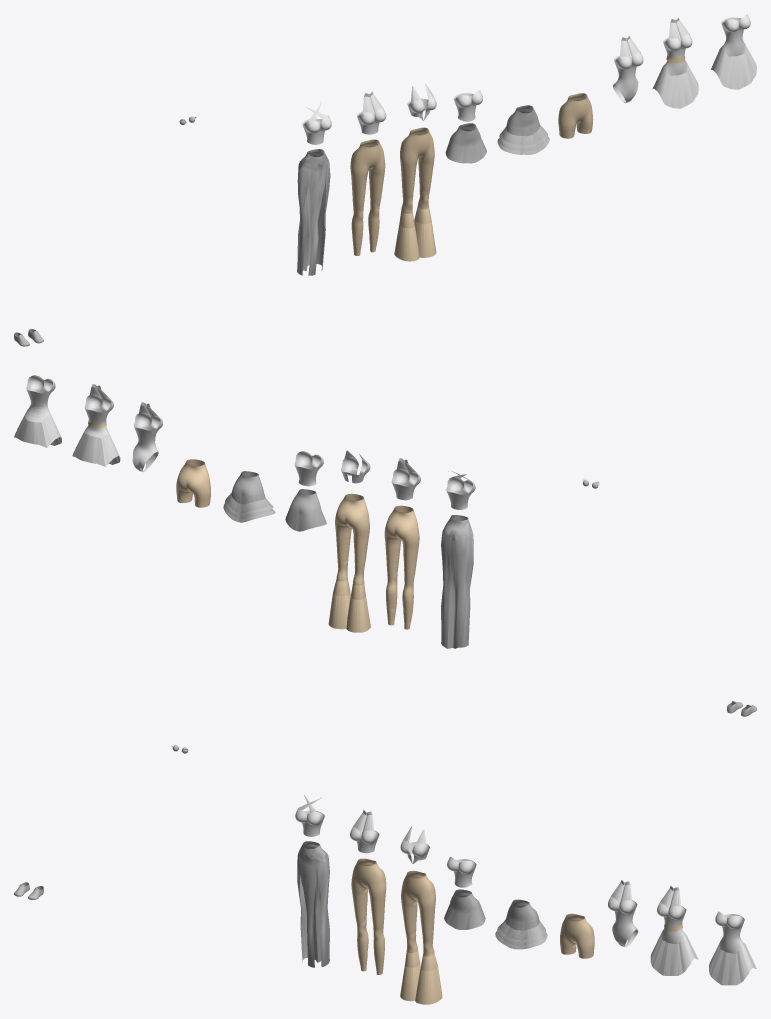
Rendered from Clothes.fbx.
3 renders of one model, top to bottom at view 1: azimuth 30°, elevation 25°; view 2: azimuth 150°, elevation 25°; view 3: azimuth 330°, elevation 25°, orthographic.
Visible parts, largest first — view 1: Female.011, Female.008, Female.010, Female.014, Female.007, Female.003, Female.013, Female.009, Female.006, Female.012, Female.004, Female.001 (+1 smaller); view 2: Female.011, Female.008, Female.010, Female.014, Female.007, Female.003, Female.013, Female.009, Female.006, Female.012, Female.004, Female.001 (+1 smaller); view 3: Female.011, Female.008, Female.010, Female.014, Female.007, Female.003, Female.013, Female.009, Female.006, Female.012, Female.004, Female.001 (+1 smaller).
Boxes of the visible parts, <box> form: Female.011: <box>394,127,436,261</box>; Female.008: <box>297,149,330,275</box>; Female.010: <box>350,139,385,255</box>; Female.014: <box>652,17,698,108</box>; Female.007: <box>711,14,756,89</box>; Female.003: <box>497,105,549,154</box>; Female.013: <box>613,36,643,102</box>; Female.009: <box>558,93,593,138</box>; Female.006: <box>445,123,486,163</box>; Female.012: <box>357,91,386,134</box>; Female.004: <box>302,101,331,144</box>; Female.001: <box>453,90,482,121</box>; Female.011: <box>328,493,370,632</box>; Female.008: <box>441,515,473,648</box>; Female.010: <box>384,505,419,629</box>; Female.014: <box>72,384,120,466</box>; Female.007: <box>14,375,61,447</box>; Female.003: <box>223,471,275,522</box>; Female.013: <box>132,402,162,472</box>; Female.009: <box>176,459,210,507</box>; Female.006: <box>285,489,326,531</box>; Female.012: <box>391,458,420,500</box>; Female.004: <box>446,470,475,509</box>; Female.001: <box>294,451,323,486</box>; Female.011: <box>400,870,442,1004</box>; Female.008: <box>297,841,329,967</box>; Female.010: <box>351,858,386,974</box>; Female.014: <box>650,885,698,975</box>; Female.007: <box>709,911,756,985</box>; Female.003: <box>495,899,547,949</box>; Female.013: <box>608,880,638,947</box>; Female.009: <box>560,913,594,958</box>; Female.006: <box>444,889,485,929</box>; Female.012: <box>350,810,379,853</box>; Female.004: <box>295,795,324,836</box>; Female.001: <box>447,857,476,887</box>.
Bounding box in the file's own units: 634 × 163 × 31.33.
